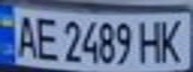2: (57, 17, 84, 64)
4: (78, 17, 100, 65)
8: (97, 18, 118, 65)
9: (112, 18, 139, 65)
A: (9, 11, 39, 60)
E: (33, 12, 60, 62)
H: (136, 16, 166, 64)
K: (154, 15, 190, 64)
